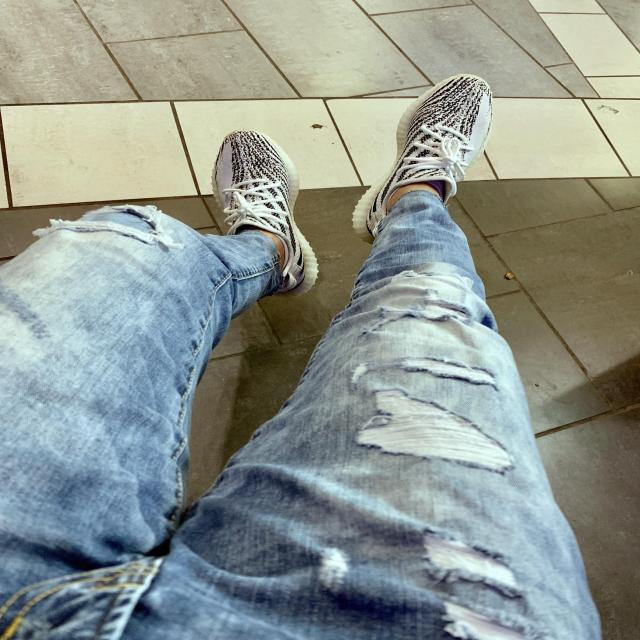shoe: (351, 71, 498, 248), (202, 125, 320, 295)
